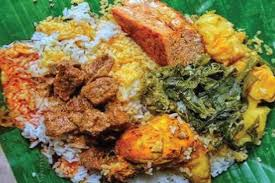Nasi padang: (0, 2, 274, 182)
